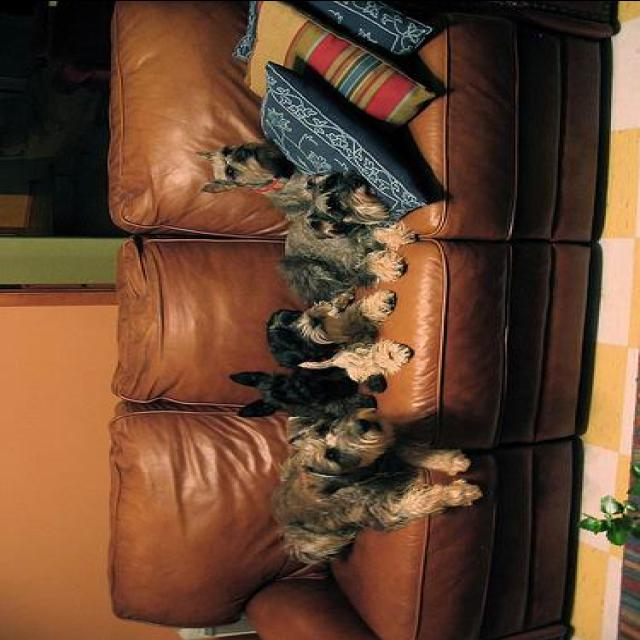standard_schnauzer: (268, 406, 483, 564), (191, 138, 381, 298), (263, 290, 417, 396), (276, 168, 404, 292)
